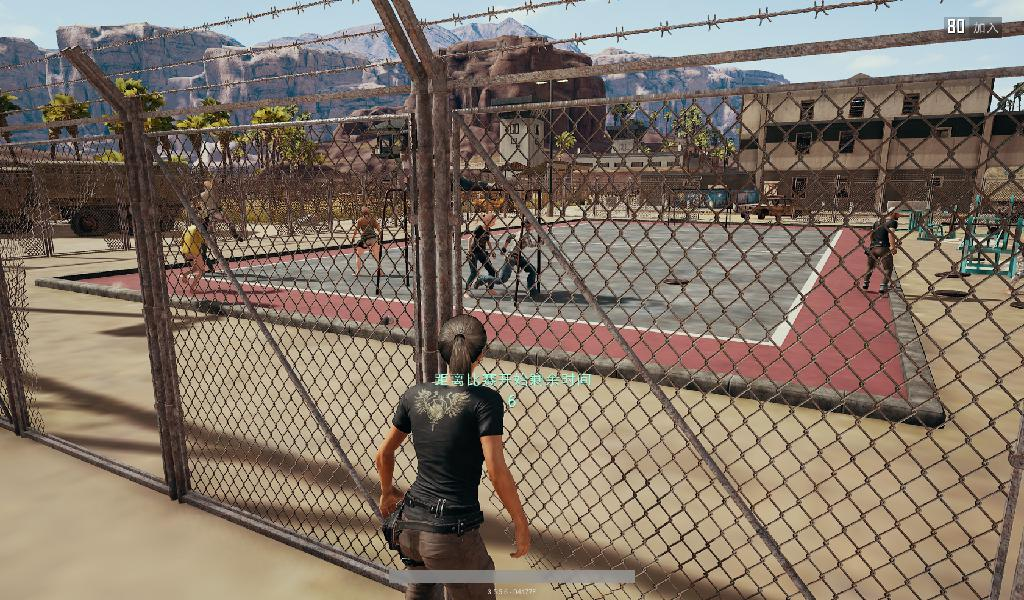Target Person: (374, 313, 535, 600), (475, 215, 542, 296), (861, 206, 901, 296), (194, 181, 247, 247), (179, 216, 212, 302), (466, 212, 498, 300), (351, 204, 385, 281)
